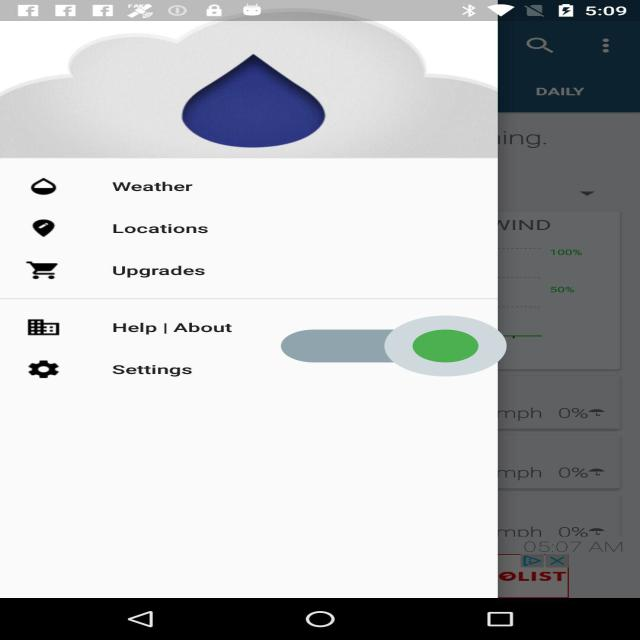social proof: (281, 290, 507, 402)
